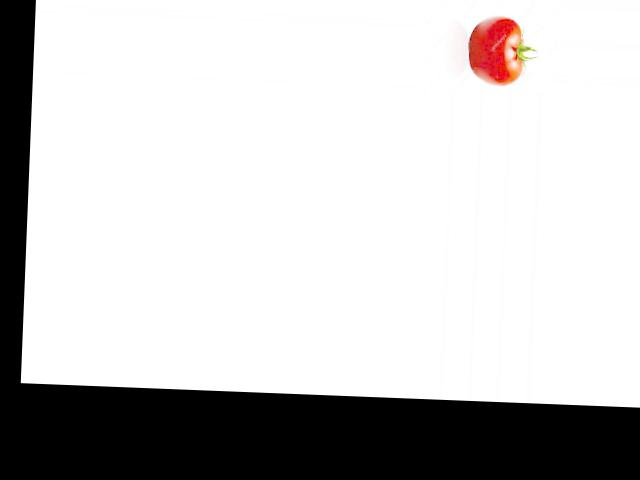tomato: (467, 14, 524, 86)
